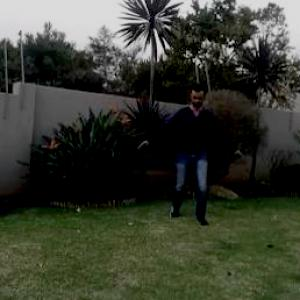land: (122, 76, 240, 224)
